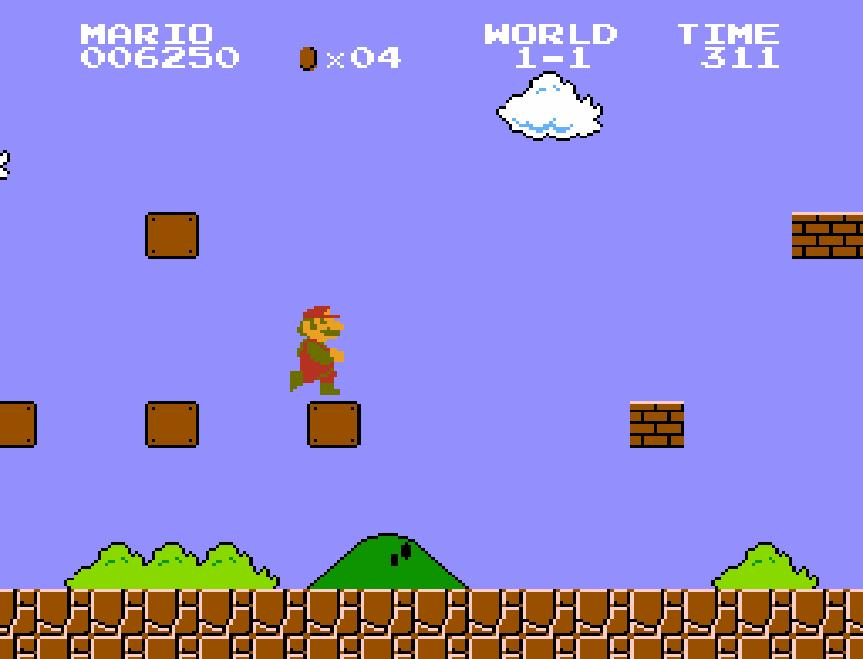big_mario: (288, 298, 346, 396)
